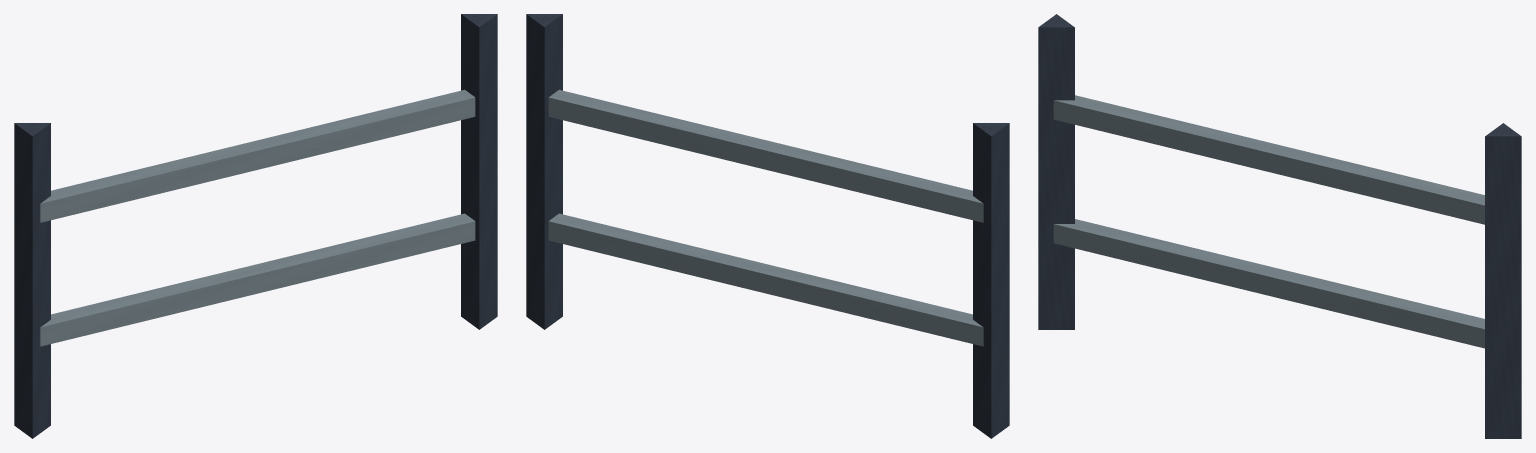
Rendered from atlas100-basalt-util04.lod2.glb.
The picture shows the model from 3 angles, left to right: view 1: azimuth 30°, elevation 25°; view 2: azimuth 150°, elevation 25°; view 3: azimuth 330°, elevation 25°; orthographic projection.
Parts seen in each view (by area): view 1: atlas100-basalt-util04:part-004, atlas100-basalt-util04:part-005, atlas100-basalt-util04:part-000, atlas100-basalt-util04:part-002; view 2: atlas100-basalt-util04:part-004, atlas100-basalt-util04:part-005, atlas100-basalt-util04:part-000, atlas100-basalt-util04:part-002; view 3: atlas100-basalt-util04:part-005, atlas100-basalt-util04:part-004, atlas100-basalt-util04:part-002, atlas100-basalt-util04:part-000.
Boxes of the visible parts, x1=… form: atlas100-basalt-util04:part-004: x1=40, y1=213, x2=475, y2=346; atlas100-basalt-util04:part-005: x1=40, y1=89, x2=475, y2=222; atlas100-basalt-util04:part-000: x1=14, y1=123, x2=50, y2=438; atlas100-basalt-util04:part-002: x1=461, y1=14, x2=497, y2=329; atlas100-basalt-util04:part-004: x1=548, y1=213, x2=983, y2=346; atlas100-basalt-util04:part-005: x1=548, y1=89, x2=983, y2=222; atlas100-basalt-util04:part-000: x1=973, y1=123, x2=1009, y2=438; atlas100-basalt-util04:part-002: x1=526, y1=14, x2=562, y2=329; atlas100-basalt-util04:part-005: x1=1053, y1=95, x2=1484, y2=224; atlas100-basalt-util04:part-004: x1=1053, y1=219, x2=1484, y2=348; atlas100-basalt-util04:part-002: x1=1485, y1=123, x2=1521, y2=438; atlas100-basalt-util04:part-000: x1=1038, y1=14, x2=1074, y2=329.
Size of the model in its own units: 1.97 by 1.2 by 0.1324.
Materials: 2 (2 with a texture image).
